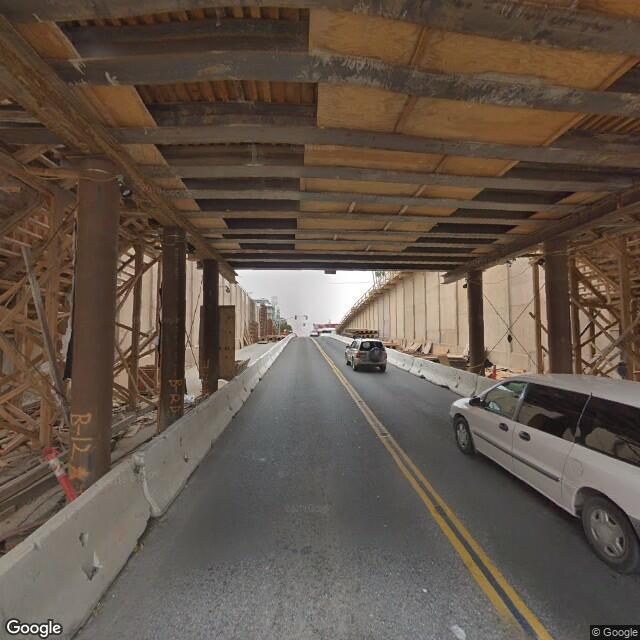road line: (463, 505, 547, 637), (373, 414, 440, 502), (337, 381, 377, 412)
